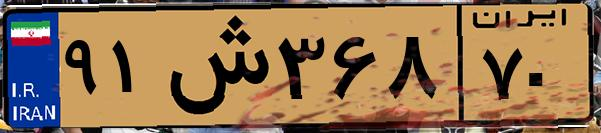0: (525, 38, 570, 115)
1: (110, 28, 158, 98)
3: (270, 28, 330, 110)
6: (330, 28, 385, 110)
7: (475, 38, 525, 113)
8: (385, 28, 445, 110)
9: (57, 26, 110, 100)
ش: (158, 12, 270, 120)
